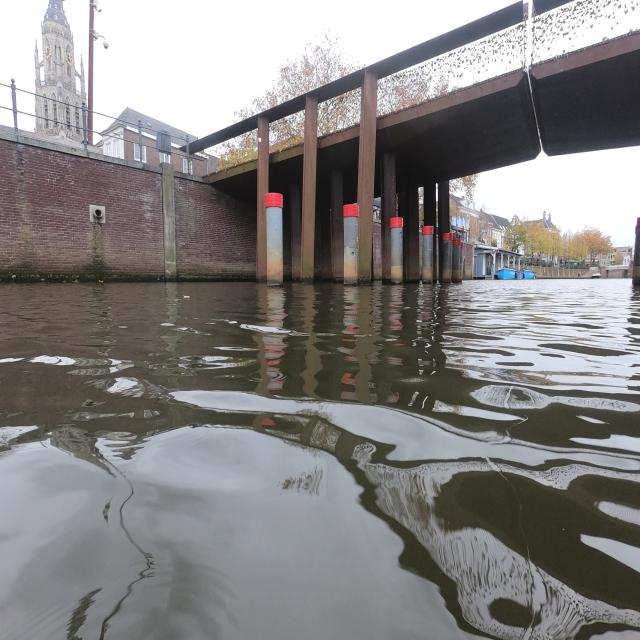sky: (92, 4, 508, 124), (478, 146, 638, 240), (2, 2, 48, 88)
wall: (2, 126, 254, 276)
water: (8, 288, 638, 632)
